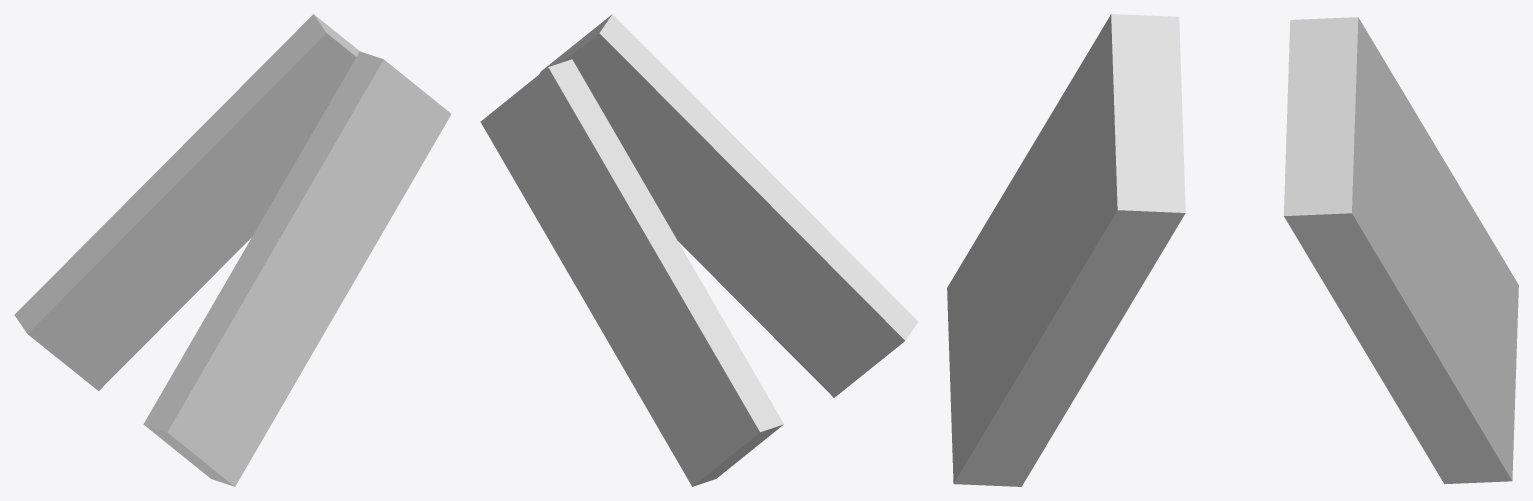
Rendered from dc_metro_roof_i2s.obj.
The picture shows the model from 3 angles, left to right: view 1: azimuth 30°, elevation 25°; view 2: azimuth 150°, elevation 25°; view 3: azimuth 270°, elevation 25°; orthographic projection. The views are drawn at different scales.
Visible parts, largest first — view 1: part2s; view 2: part2s; view 3: part2s.
Boxes of the visible parts, bbox=[...] form: part2s: bbox=[14, 14, 451, 486]; part2s: bbox=[480, 14, 918, 486]; part2s: bbox=[947, 14, 1518, 486].
Bounding box in the file's own units: 1.28 × 1.29 × 1.03.
Materials: 1 (1 with a texture image).
